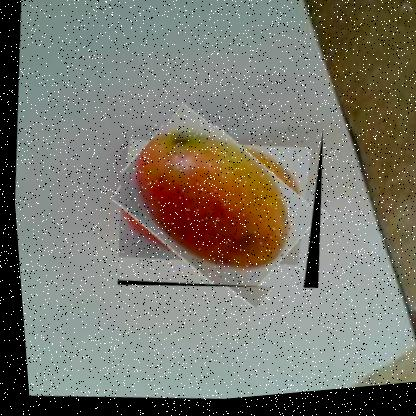mango: (102, 111, 330, 307)
